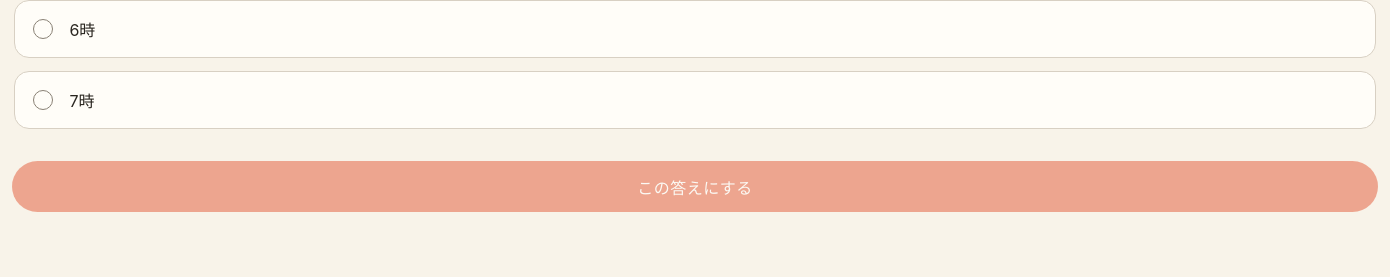
keeps the selection after a network failure so it can retry
Step 1. Click the radio button labelled "6時" → (43, 29), box [14,0,1376,58]
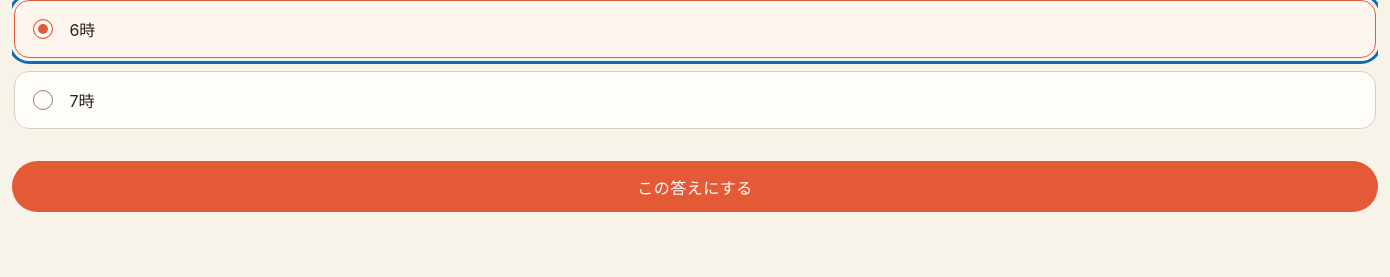
Step 2. Click the button "この答えにする" → (695, 187), box [12,161,1378,212]
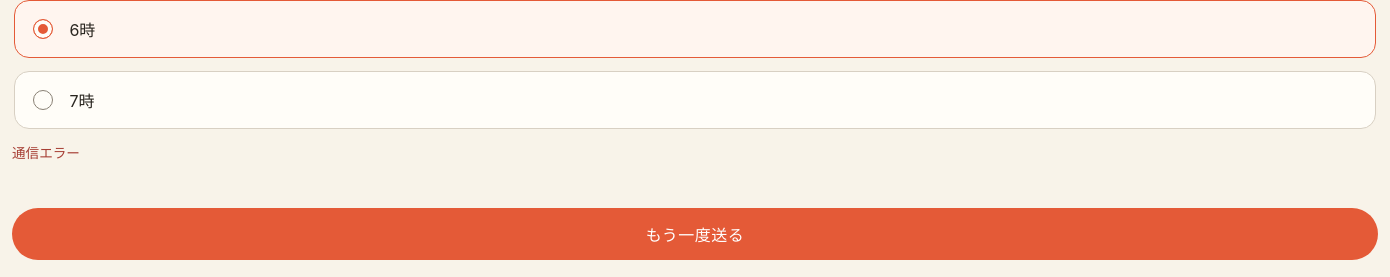
Expected: the radio button labelled "6時" is checked, [14,0,1376,58]
Expected: the button "もう一度送る" is enabled, [12,208,1378,260]
Expected: the message reads "通信エラー", [12,145,80,161]
